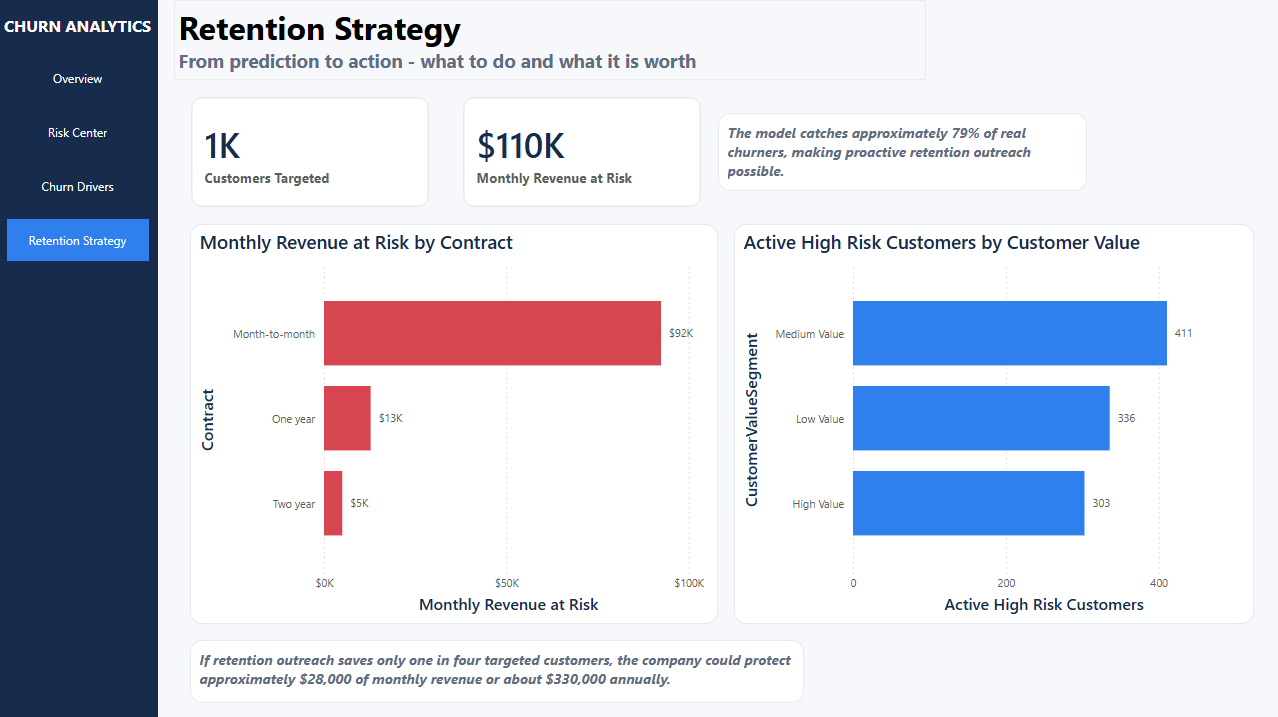

Layout of this report page (visuals, bound fields, positions):
{"tool":"powerbi","page":{"name":"Retention Strategy","canvas":[1280,720],"ordinal":3},"visuals":[{"type":"cardVisual","fields":{"Data":["_Measures.Active High Risk Customers"]},"box":[176,80,272,144],"z":0},{"type":"shape","box":[0,0,160,720],"z":1000},{"type":"textbox","box":[0,10,160,64],"z":2000},{"type":"textbox","box":[176,0,752,80],"z":3000},{"type":"pageNavigator","box":[8,56,144,208],"z":4000},{"type":"cardVisual","fields":{"Data":["_Measures.Monthly Revenue at Risk"]},"box":[448,80,272,144],"z":5000},{"type":"clusteredBarChart","fields":{"Category":["churn_predictions_powerbi.Contract"],"Y":["_Measures.Monthly Revenue at Risk"]},"box":[192,224,528,400],"z":6000},{"type":"textbox","box":[192,640,614,63],"z":7000},{"type":"barChart","title":"Active High Risk Customers by Customer Value","fields":{"Category":["churn_predictions_powerbi.CustomerValueSegment"],"Y":["_Measures.Active High Risk Customers"]},"box":[736,224,520,400],"z":8000},{"type":"textbox","box":[720,113,369,78],"z":9000}]}

Visuals, with their boxes on the page's 1280x720 design canvas (x1, y1, x2, y2). These are canvas units, not pixel positions in the 1278x717 screenshot, which may show the page scaled, cropped or inside an application window:
cardVisual - _Measures.Active High Risk Customers: pyautogui.locateOnScreen(176, 80, 448, 224)
shape: pyautogui.locateOnScreen(0, 0, 160, 720)
textbox: pyautogui.locateOnScreen(0, 10, 160, 74)
textbox: pyautogui.locateOnScreen(176, 0, 928, 80)
pageNavigator: pyautogui.locateOnScreen(8, 56, 152, 264)
cardVisual - _Measures.Monthly Revenue at Risk: pyautogui.locateOnScreen(448, 80, 720, 224)
clusteredBarChart - churn_predictions_powerbi.Contract x _Measures.Monthly Revenue at Risk: pyautogui.locateOnScreen(192, 224, 720, 624)
textbox: pyautogui.locateOnScreen(192, 640, 806, 703)
"Active High Risk Customers by Customer Value" barChart: pyautogui.locateOnScreen(736, 224, 1256, 624)
textbox: pyautogui.locateOnScreen(720, 113, 1089, 191)
